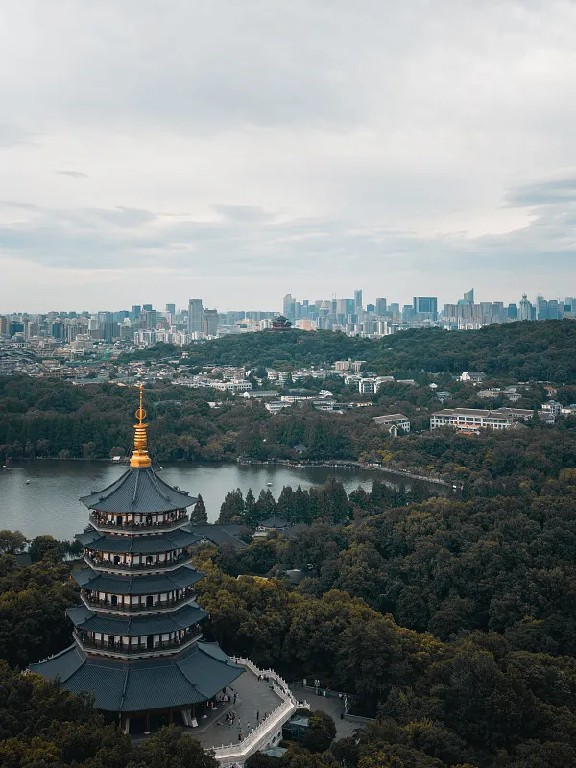Leifeng: (27, 380, 246, 740)
